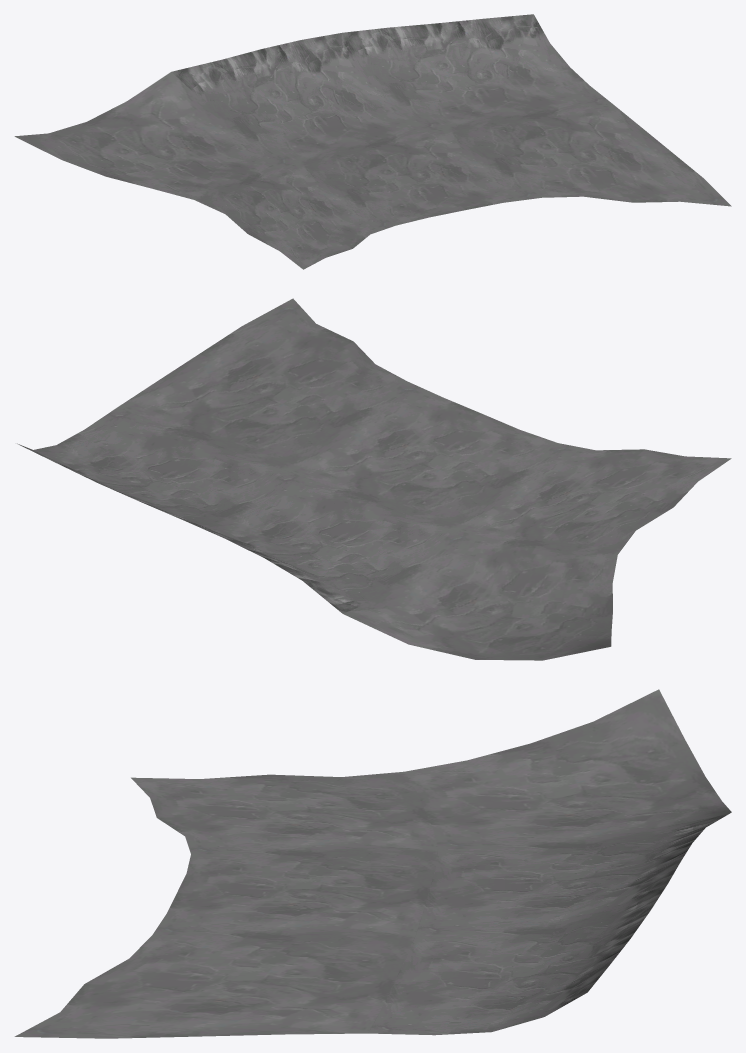
The model's file is SWORDLIGHT20_PS-AREA04_26.fbx.
3 views of the same model, one above another, from view 1: azimuth 30°, elevation 25°; view 2: azimuth 150°, elevation 25°; view 3: azimuth 270°, elevation 25° (orthographic). The views are drawn at different scales.
Parts seen in each view (by area): view 1: SWORDLIGHT20_PS-AREA04_26; view 2: SWORDLIGHT20_PS-AREA04_26; view 3: SWORDLIGHT20_PS-AREA04_26.
Part boxes in pixels (x1=…): SWORDLIGHT20_PS-AREA04_26: x1=14, y1=14, x2=731, y2=269; SWORDLIGHT20_PS-AREA04_26: x1=17, y1=298, x2=731, y2=660; SWORDLIGHT20_PS-AREA04_26: x1=14, y1=689, x2=731, y2=1038.
Size of the model in its own units: 135646 by 11751 by 123712.
2 materials, 2 textured.
